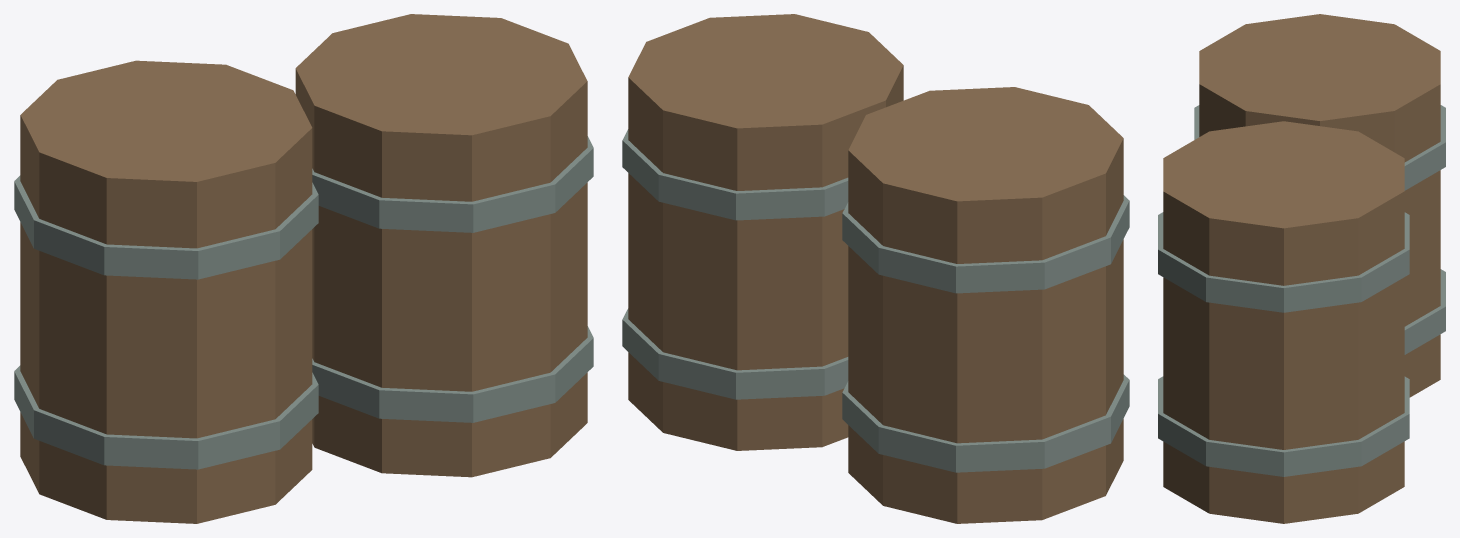
File: capital-barrels.glb
3 renders of one model, left to right at view 1: azimuth 30°, elevation 25°; view 2: azimuth 150°, elevation 25°; view 3: azimuth 270°, elevation 25°, orthographic. The views are drawn at different scales.
Visible parts, largest first — view 1: Building; view 2: Building; view 3: Building.
Boxes of the visible parts, x1,y1,x2,y2 form: Building: (14, 14, 593, 523); Building: (622, 14, 1129, 523); Building: (1158, 14, 1445, 523).
Bounding box in the file's own units: 28.6 × 18 × 15.89.
